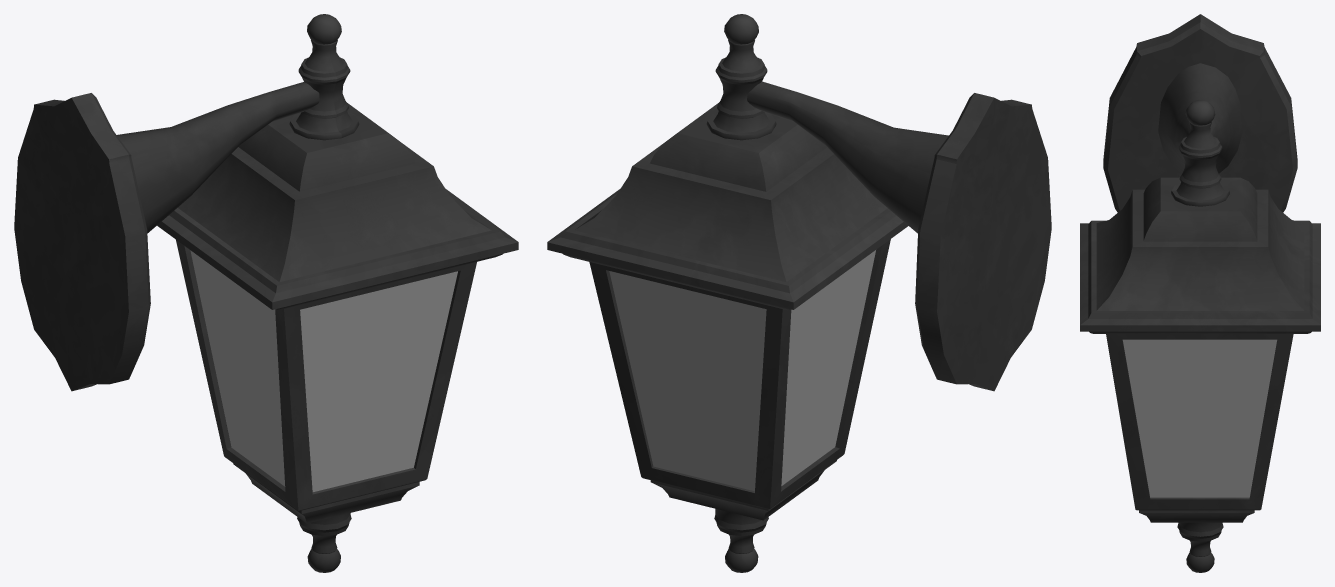
File: farol.fbx
3 views of the same model, side by side, from view 1: azimuth 30°, elevation 25°; view 2: azimuth 150°, elevation 25°; view 3: azimuth 270°, elevation 25° (orthographic). The views are drawn at different scales.
Parts seen in each view (by area): view 1: pCylinder5, pPlane5; view 2: pCylinder5, pPlane5; view 3: pCylinder5, pPlane5.
Part boxes in pixels (x1=…): pCylinder5: x1=14, y1=14, x2=518, y2=572; pPlane5: x1=190, y1=250, x2=457, y2=491; pCylinder5: x1=547, y1=14, x2=1051, y2=572; pPlane5: x1=609, y1=250, x2=875, y2=491; pCylinder5: x1=1080, y1=14, x2=1320, y2=572; pPlane5: x1=1122, y1=339, x2=1277, y2=497.
Size of the model in its own units: 34.71 by 48.89 by 22.75.
